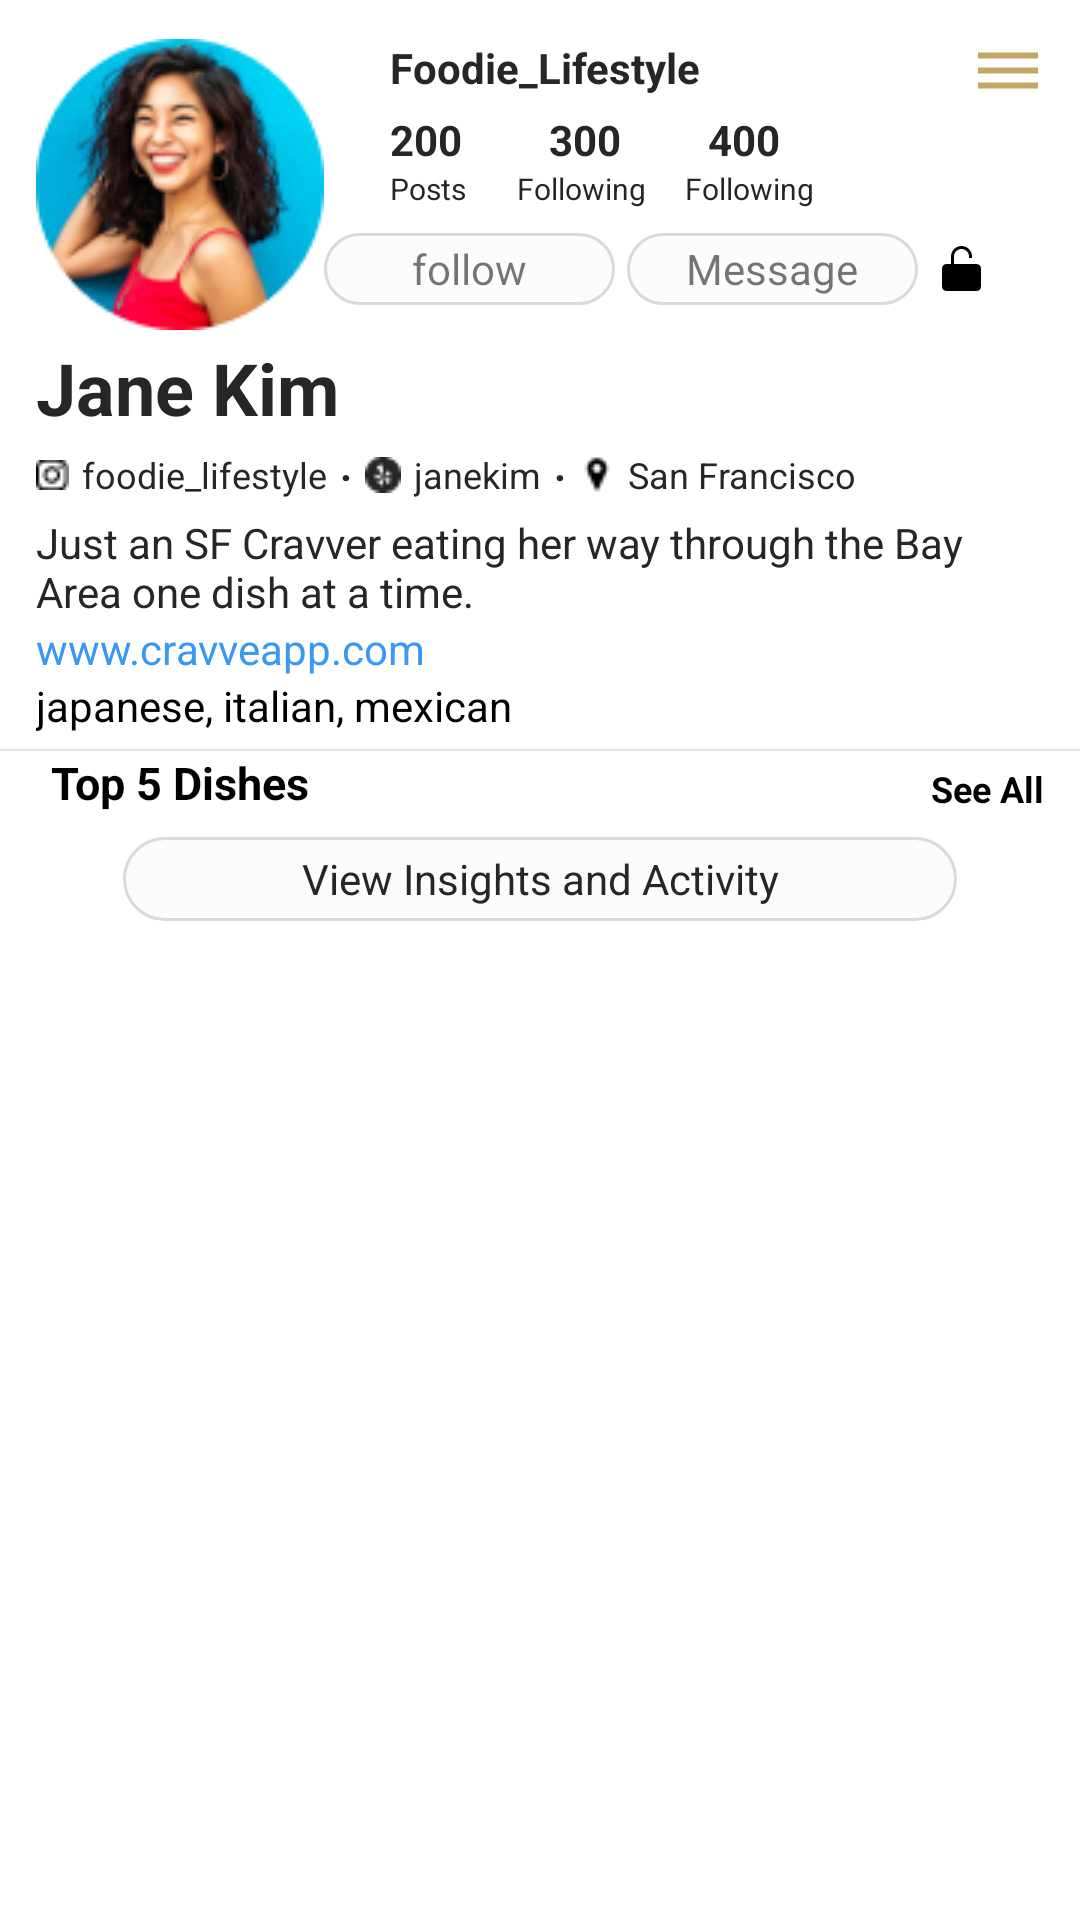

Named icons in this screenshot (1080 x 1920) and their centers, [x,y]:
dehaze: [1008,70]
